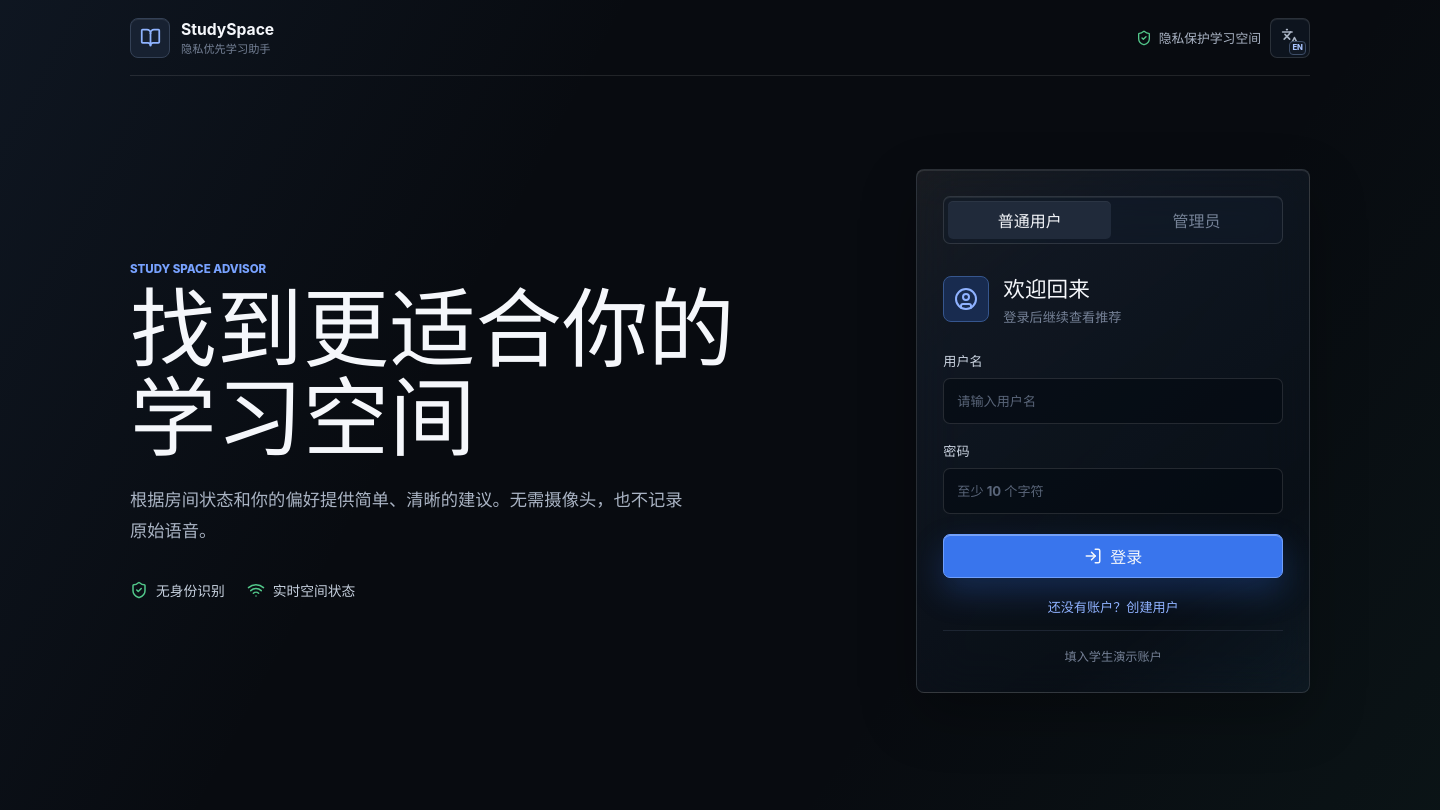
Test case: App › uses today's goal in a dedicated AI advisor page without changing saved preferences
The image size is (1440, 810).
Click the button with aria-label "切换为英文" at (1290, 38), box [1270,18,1310,58]
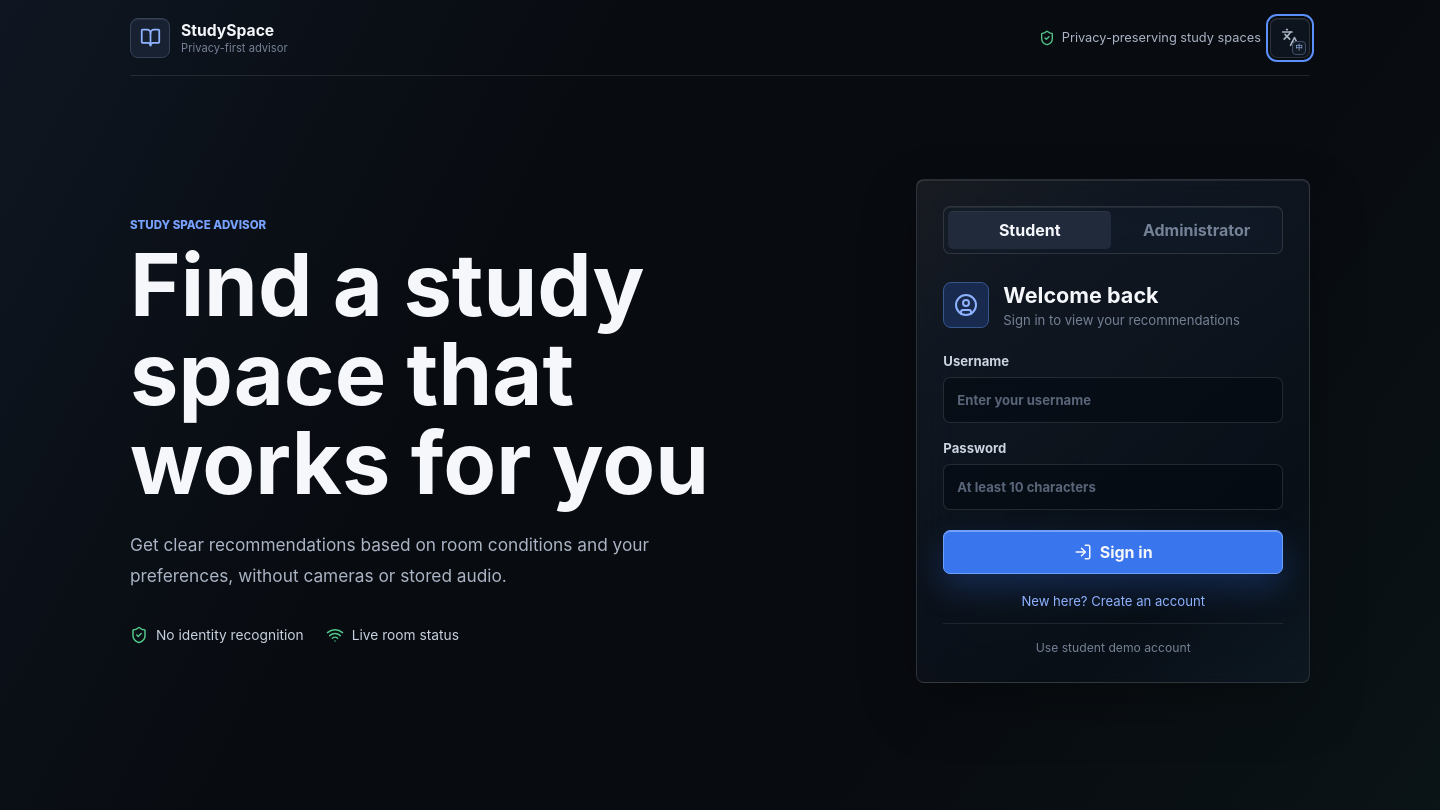
Click the button "Use student demo account" at (1113, 640), box [943,623,1283,656]
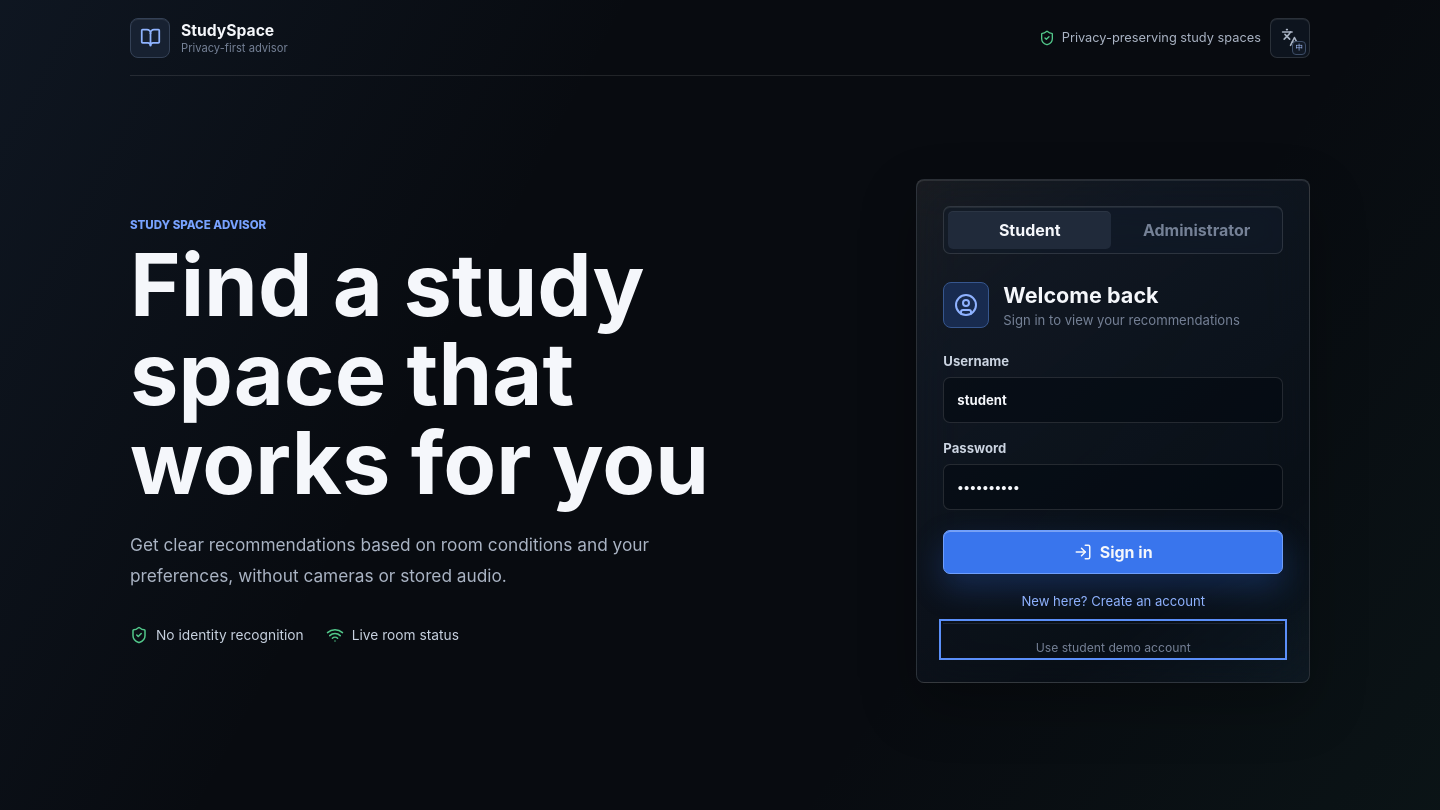
Click the button "Sign in" at (1113, 552), box [943,530,1283,574]
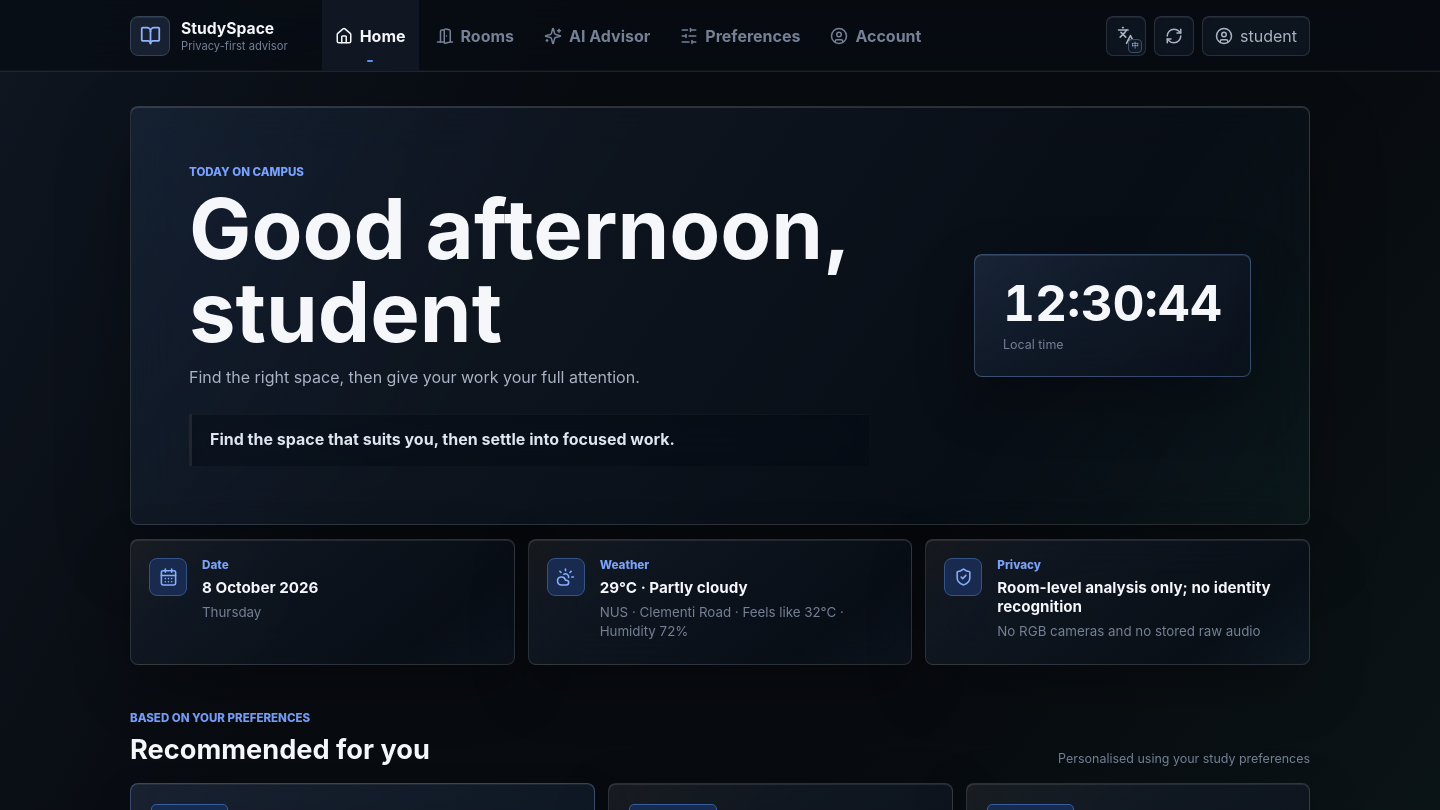
Click the button "AI Advisor" at (597, 36), box [531,0,663,71]
(page scrolled)
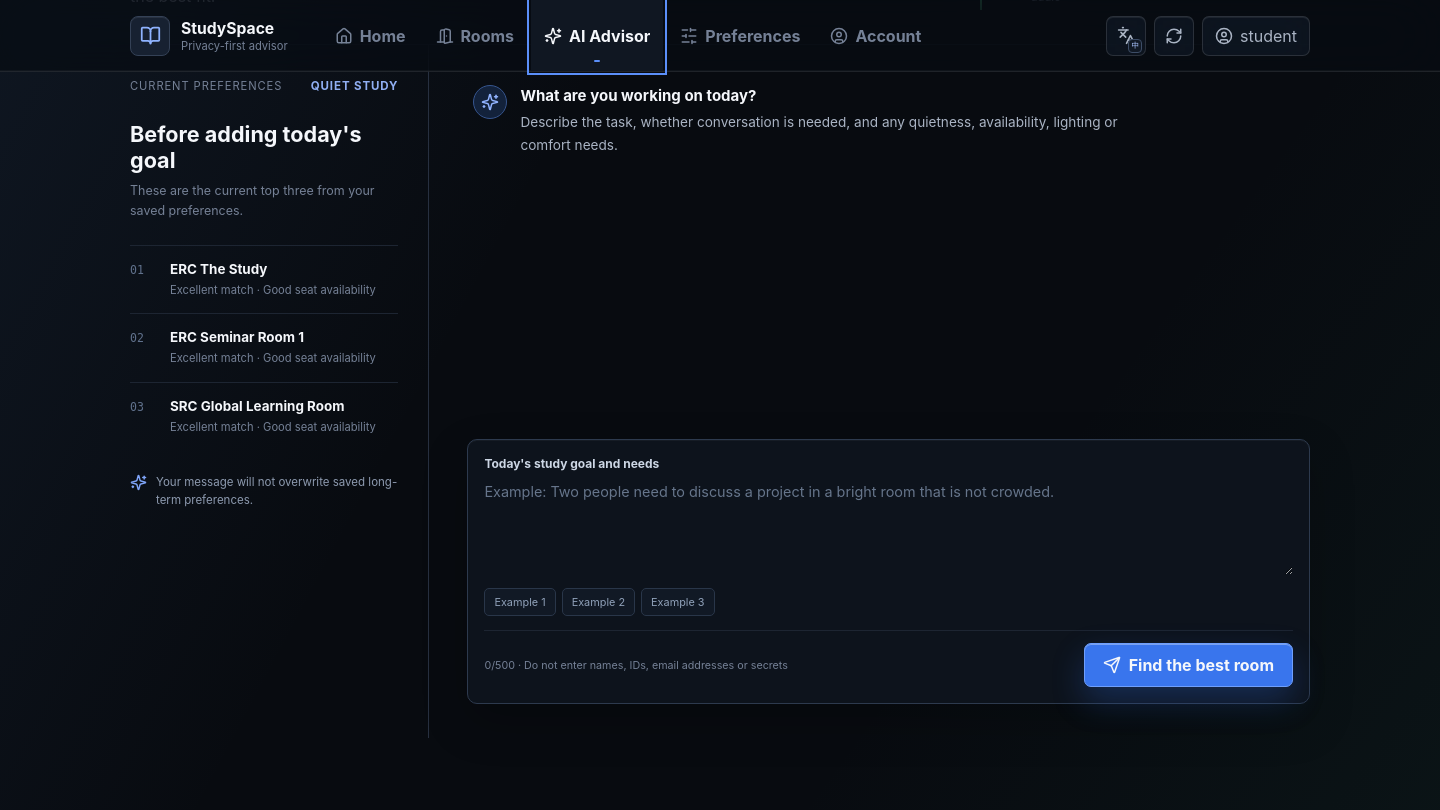
Expected: the text "These are the current top three from your saved preferences." is shown, [130,181,398,221]
Click the button "Example 1" at (520, 602), box [484,588,556,616]
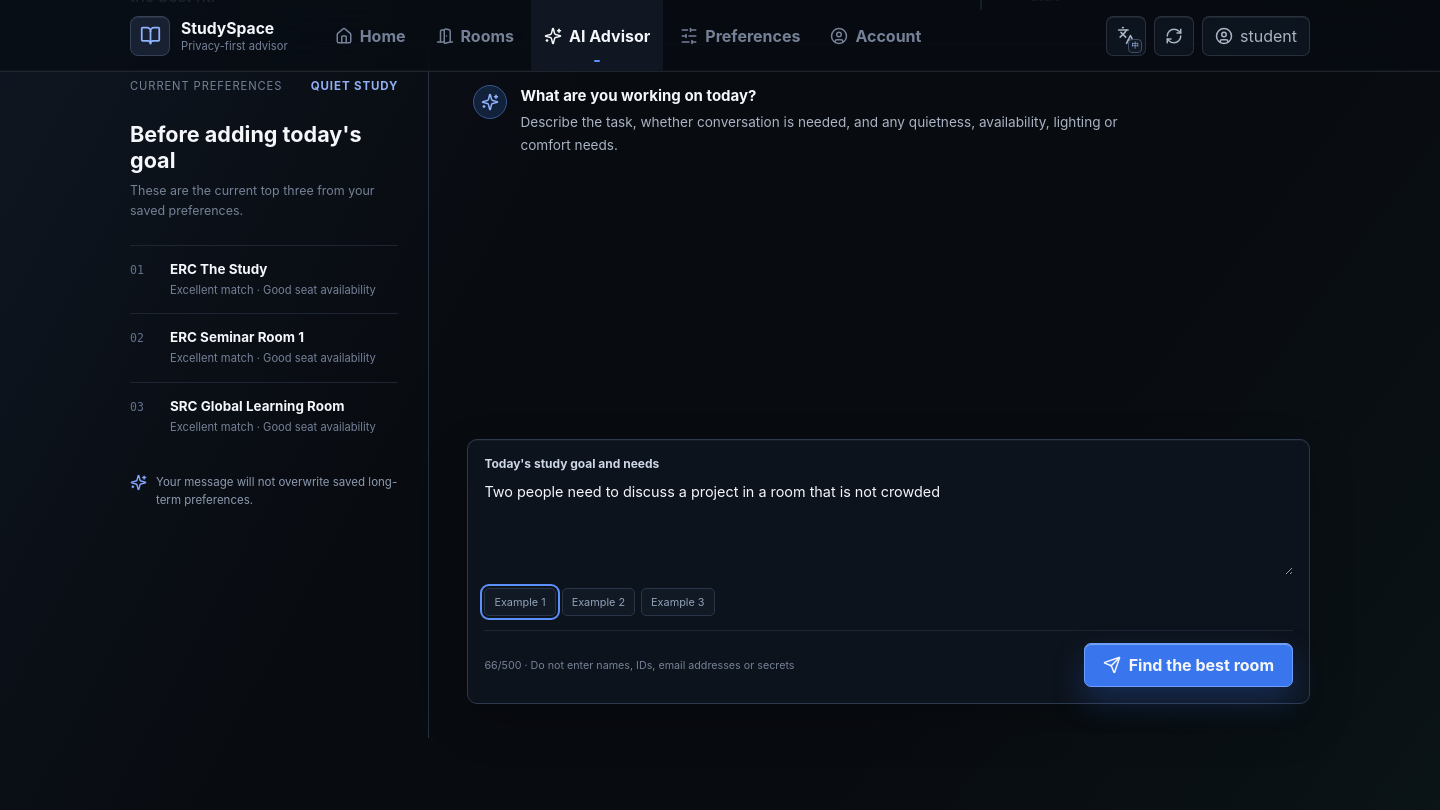
Click the button "Find the best room" at (1188, 665), box [1084,643,1293,687]
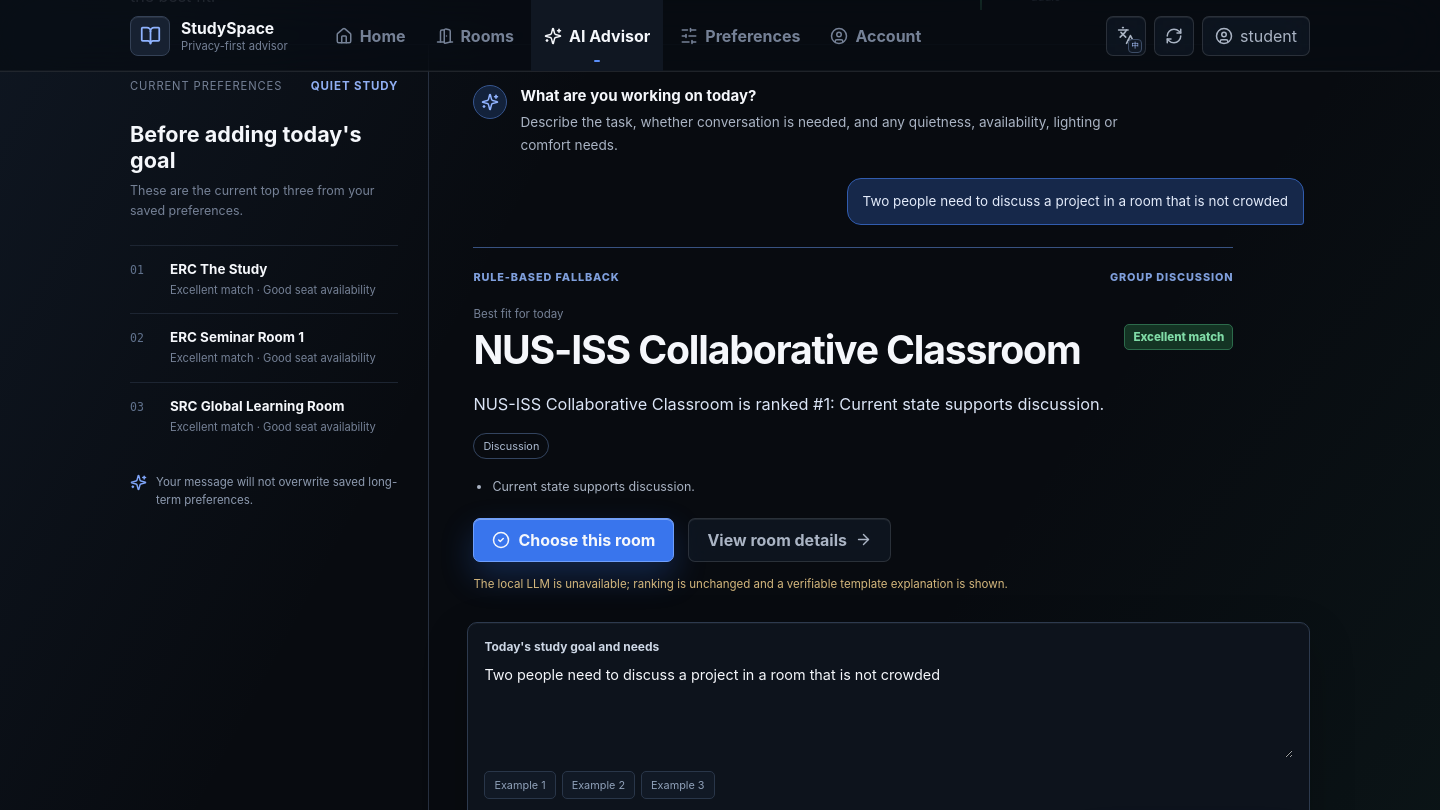
Expected: the text "Your message will not overwrite saved long-term preferences." is shown, [156,474,398,510]
Expected: the text "Best fit for today" is shown, [473,307,564,321]
Expected: the text "Group discussion" is shown, [1110,270,1233,284]
